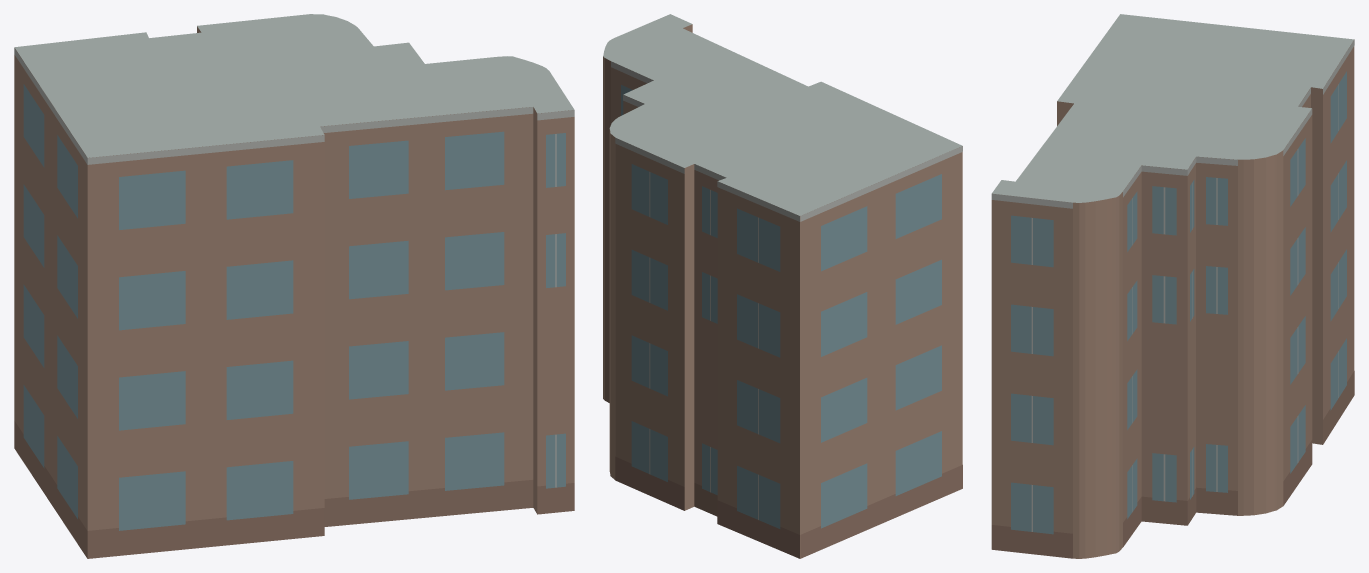
Rendered from survey-upis-32815794.glb.
3 views of the same model, side by side, from view 1: azimuth 30°, elevation 25°; view 2: azimuth 150°, elevation 25°; view 3: azimuth 270°, elevation 25° (orthographic). The views are drawn at different scales.
Parts seen in each view (by area): view 1: survey-upis-32815794.tmp; view 2: survey-upis-32815794.tmp; view 3: survey-upis-32815794.tmp.
Part boxes in pixels (x1,y1,x2,y2): survey-upis-32815794.tmp: (14, 14, 574, 558); survey-upis-32815794.tmp: (603, 14, 962, 558); survey-upis-32815794.tmp: (991, 14, 1354, 558).
Bounding box in the file's own units: 15.95 × 14.01 × 12.95.
